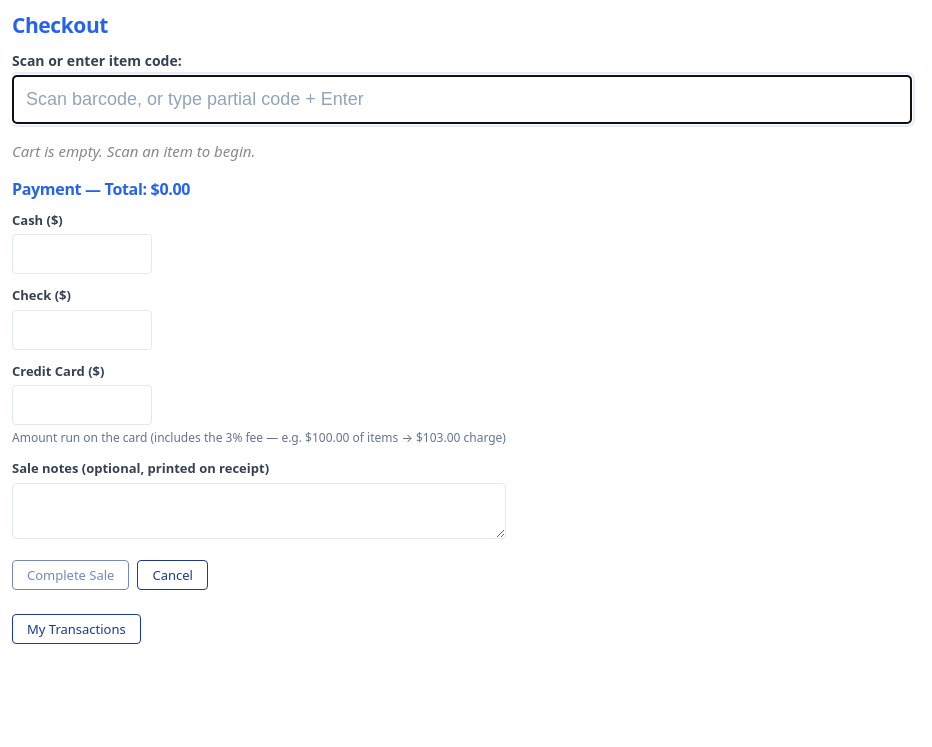
Scenario: POSPage › adds scanned item to cart
In the field with placeholder "Scan barcode, or type partial code + Enter": [462, 100] box 12,75 -> 912,124, type "A001-001"
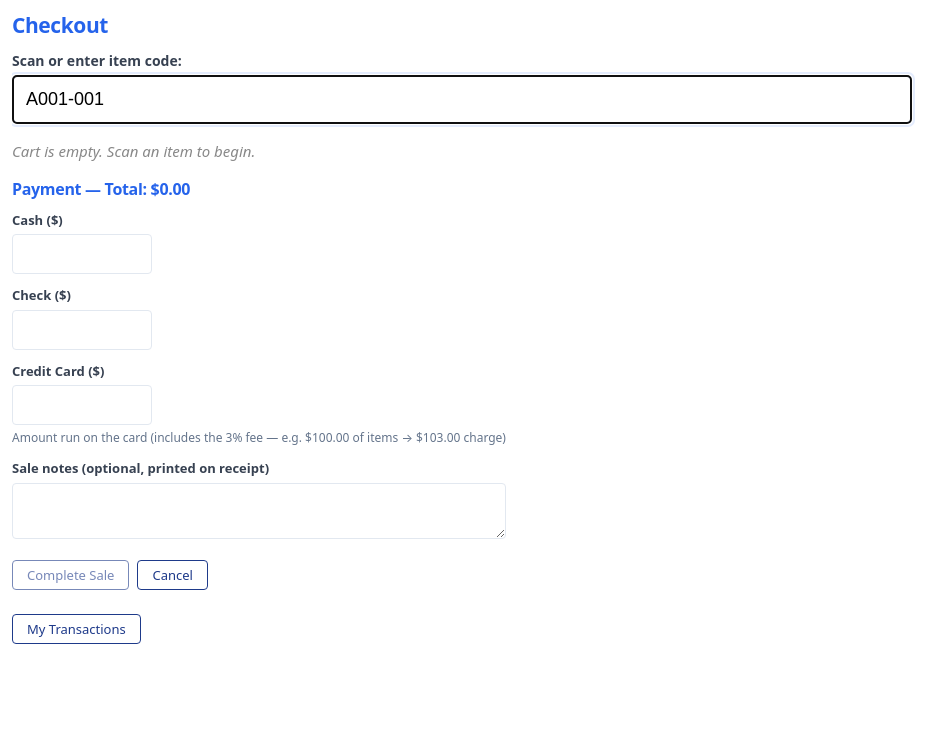
Press Enter in the field with placeholder "Scan barcode, or type partial code + Enter", box 12,75 -> 912,124
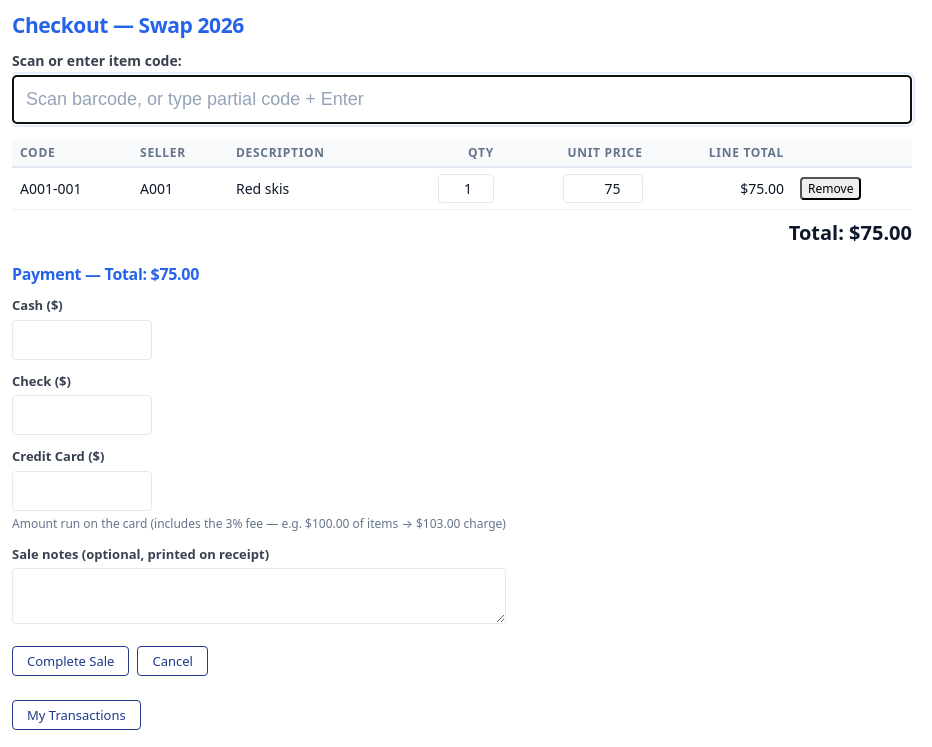
Check: the text "A001-001" is shown, box 12,167 -> 132,210
Check: the text "$75.00" is shown, box 651,167 -> 792,210
